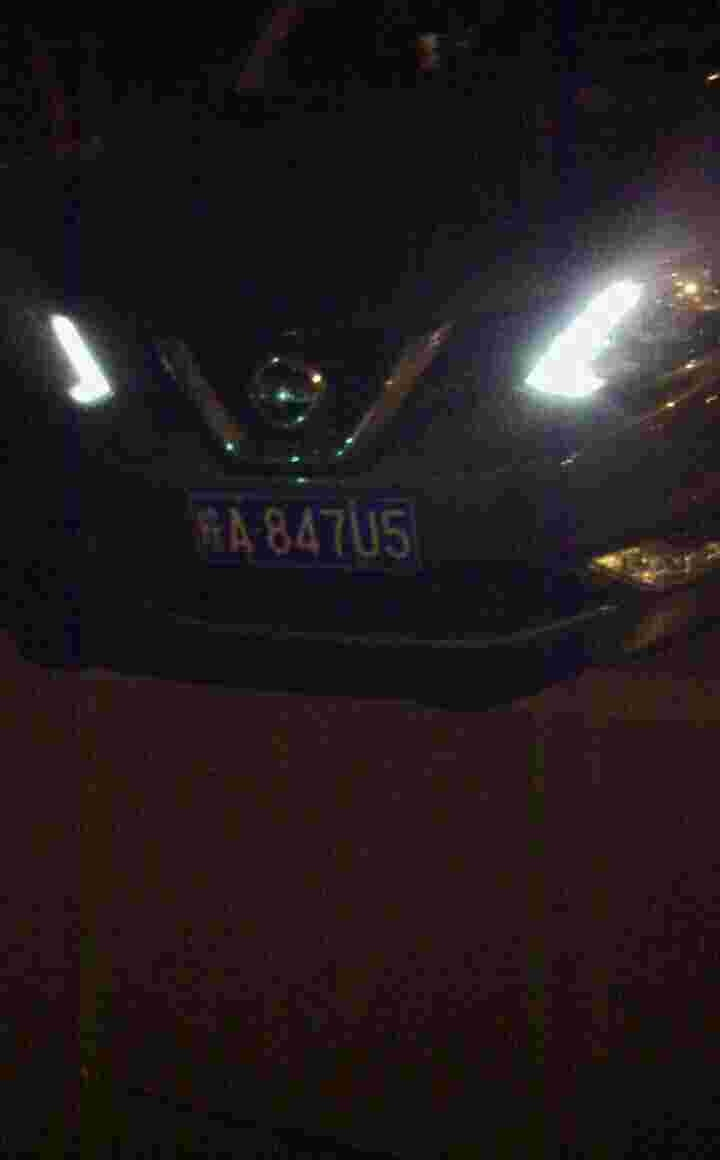license_plate: (198, 482, 434, 573)
